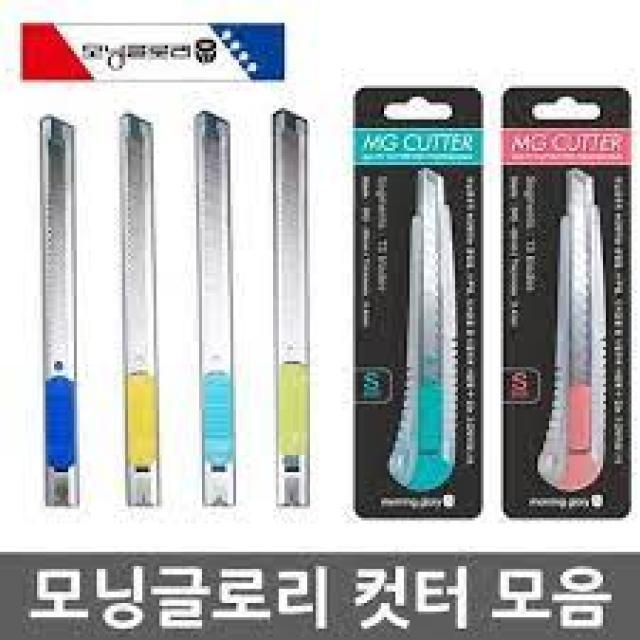cutter: (526, 164, 618, 496), (182, 105, 248, 518), (108, 106, 172, 518), (388, 166, 466, 500), (32, 101, 94, 515), (266, 104, 316, 512)
